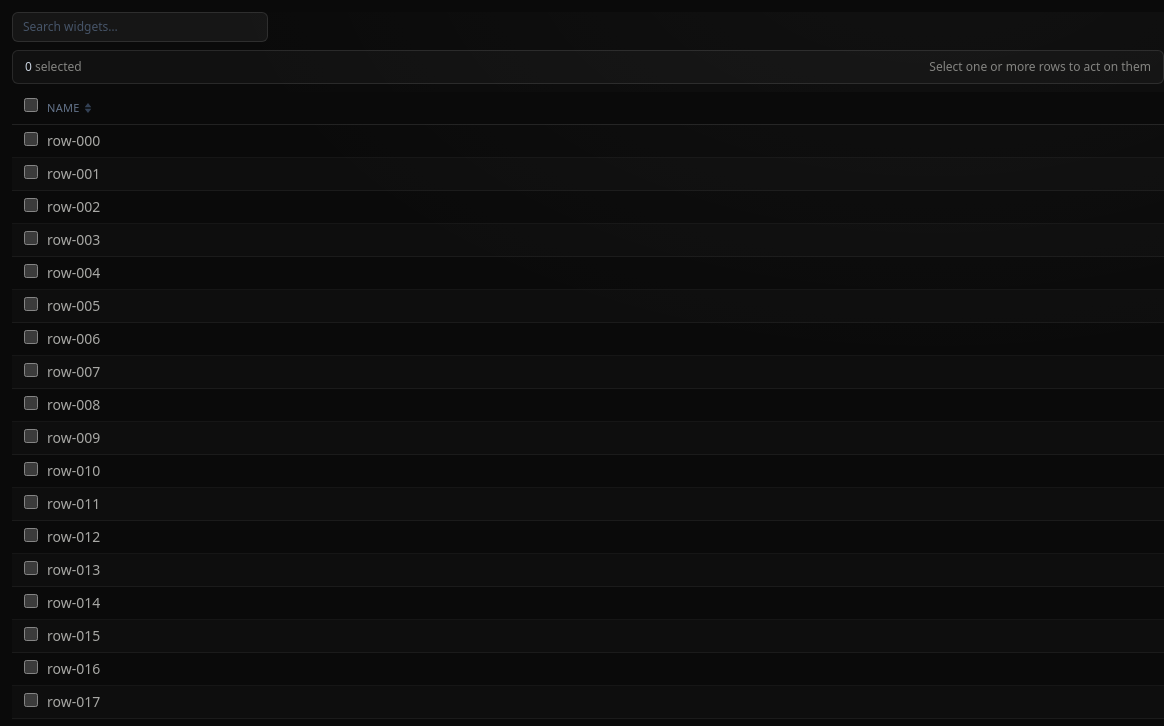
Test: DataTable — selection › ⚠ …AND SELECTING EVERYTHING IS STILL POSSIBLE, BY A CONTROL THAT SAYS THE NUMBER
Click the checkbox named "Select all 25 on this page" at (31, 105), box 24,98 -> 38,112
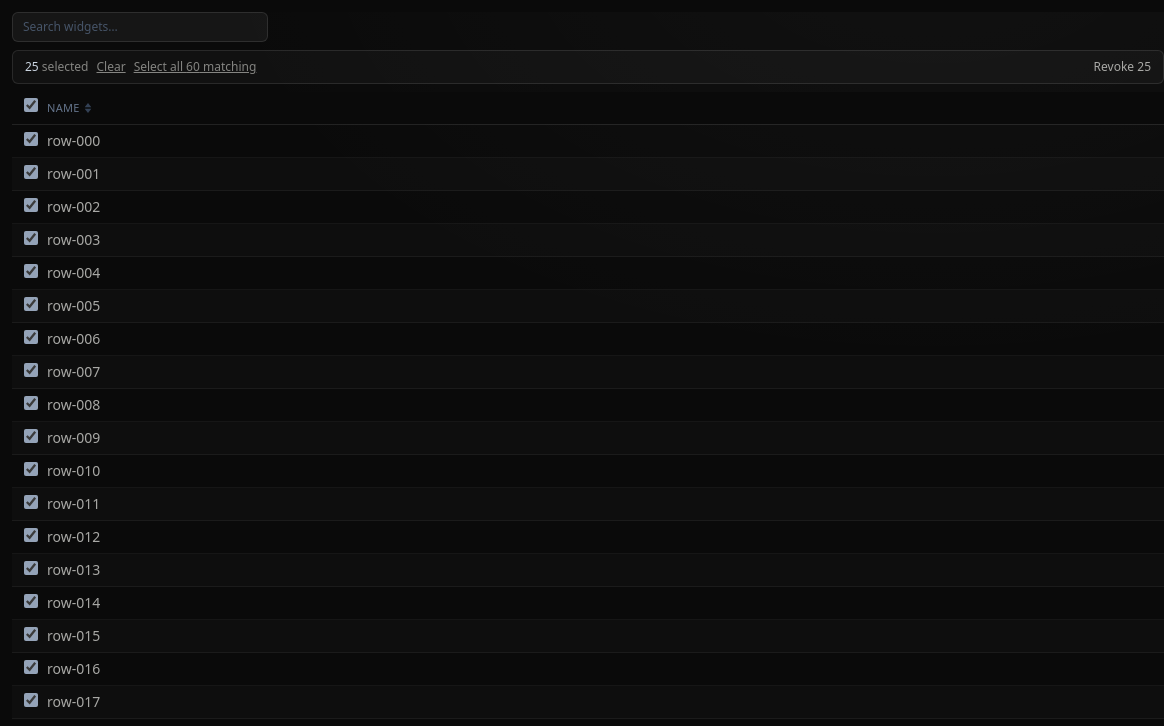
Click the button "Select all 60 matching" at (195, 67), box 134,59 -> 256,75
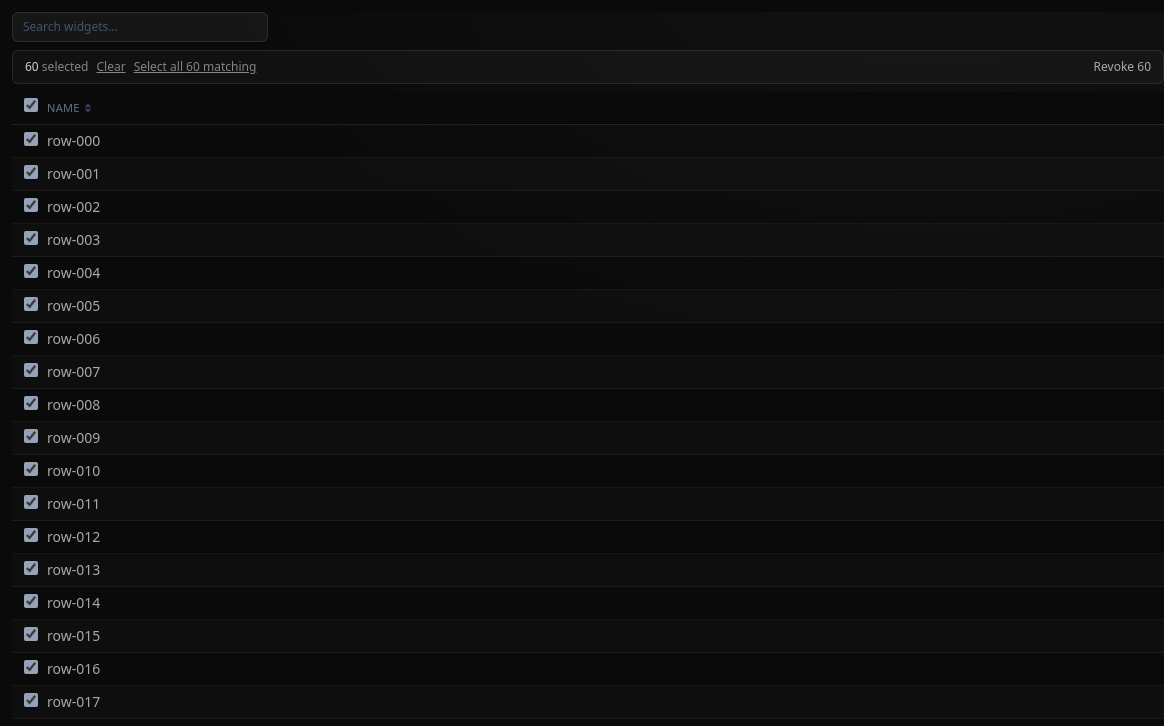
Expected: the text "selected" shows "60 selected", 25,59 -> 256,75
